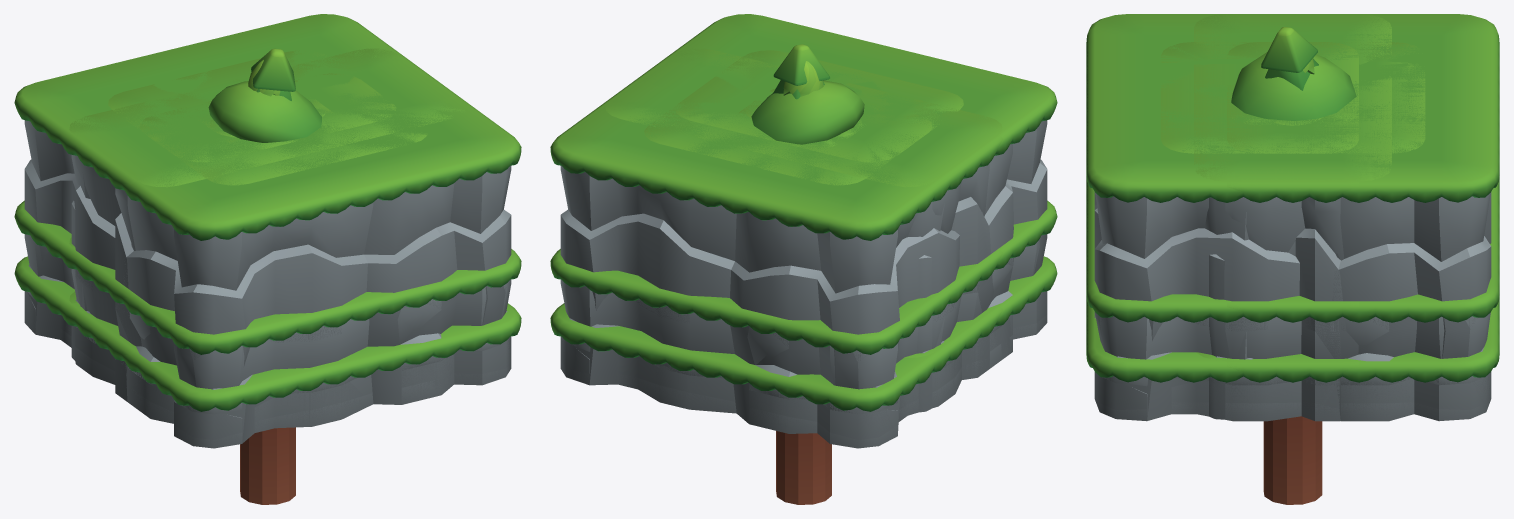
Rendered from kaykit_Color1.glb.
The picture shows the model from 3 angles, left to right: view 1: azimuth 30°, elevation 25°; view 2: azimuth 150°, elevation 25°; view 3: azimuth 270°, elevation 25°; orthographic projection. The views are drawn at different scales.
Parts seen in each view (by area): view 1: Hill_12x12x8_Color1-col, Hill_12x12x4_Color1-col, Hill_12x6x8_Color1-col, Hill_12x12x2_Color1-col, Hill_8x8x8_Color1-col, Tree_7_C_Color1-col, Wooden_Platform_Top-col, Hill_8x4x8_Color1-col, Tree_4_C_Color1-col, Hill_12x6x4_Color1-col, Hill_12x6x2_Color1-col; view 2: Hill_12x12x8_Color1-col, Hill_12x12x4_Color1-col, Hill_12x6x8_Color1-col, Hill_12x12x2_Color1-col, Hill_8x8x8_Color1-col, Hill_8x4x8_Color1-col, Tree_7_C_Color1-col, Wooden_Platform_Top-col, Hill_12x6x4_Color1-col, Hill_12x6x2_Color1-col, Tree_4_C_Color1-col, Tree_5_F_Color1-col; view 3: Hill_12x12x8_Color1-col, Hill_12x6x8_Color1-col, Hill_12x12x4_Color1-col, Hill_12x12x2_Color1-col, Hill_8x8x8_Color1-col, Hill_8x4x8_Color1-col, Tree_7_C_Color1-col, Wooden_Platform_Top-col, Hill_12x6x4_Color1-col, Hill_12x6x2_Color1-col, Tree_4_C_Color1-col.
Part boxes in pixels (left/top/right/bottom): Hill_12x12x8_Color1-col: left=14, top=14, right=521, bottom=447; Hill_12x12x4_Color1-col: left=14, top=200, right=521, bottom=447; Hill_12x6x8_Color1-col: left=69, top=48, right=464, bottom=401; Hill_12x12x2_Color1-col: left=14, top=256, right=521, bottom=448; Hill_8x8x8_Color1-col: left=108, top=50, right=427, bottom=185; Tree_7_C_Color1-col: left=208, top=81, right=321, bottom=142; Wooden_Platform_Top-col: left=240, top=427, right=295, bottom=504; Hill_8x4x8_Color1-col: left=139, top=73, right=396, bottom=162; Tree_4_C_Color1-col: left=251, top=48, right=295, bottom=100; Hill_12x6x4_Color1-col: left=69, top=237, right=135, bottom=391; Hill_12x6x2_Color1-col: left=69, top=291, right=138, bottom=401; Hill_12x12x8_Color1-col: left=550, top=14, right=1057, bottom=444; Hill_12x12x4_Color1-col: left=550, top=200, right=1057, bottom=448; Hill_12x6x8_Color1-col: left=605, top=48, right=1003, bottom=412; Hill_12x12x2_Color1-col: left=550, top=256, right=1057, bottom=448; Hill_8x8x8_Color1-col: left=644, top=50, right=963, bottom=185; Hill_8x4x8_Color1-col: left=676, top=82, right=932, bottom=162; Tree_7_C_Color1-col: left=751, top=80, right=864, bottom=144; Wooden_Platform_Top-col: left=776, top=431, right=831, bottom=504; Hill_12x6x4_Color1-col: left=916, top=248, right=1003, bottom=409; Hill_12x6x2_Color1-col: left=904, top=305, right=1003, bottom=410; Tree_4_C_Color1-col: left=772, top=44, right=829, bottom=99; Tree_5_F_Color1-col: left=783, top=61, right=823, bottom=96; Hill_12x12x8_Color1-col: left=1086, top=14, right=1499, bottom=421; Hill_12x6x8_Color1-col: left=1194, top=14, right=1391, bottom=421; Hill_12x12x4_Color1-col: left=1086, top=176, right=1499, bottom=421; Hill_12x12x2_Color1-col: left=1086, top=296, right=1499, bottom=421; Hill_8x8x8_Color1-col: left=1160, top=42, right=1425, bottom=153; Hill_8x4x8_Color1-col: left=1227, top=42, right=1358, bottom=153; Tree_7_C_Color1-col: left=1231, top=52, right=1356, bottom=120; Wooden_Platform_Top-col: left=1263, top=416, right=1322, bottom=504; Hill_12x6x4_Color1-col: left=1209, top=296, right=1358, bottom=419; Hill_12x6x2_Color1-col: left=1196, top=352, right=1362, bottom=421; Tree_4_C_Color1-col: left=1261, top=27, right=1318, bottom=90.
Size of what is drawn, in the model's own units: 12.5 by 15.6 by 12.5.
199 materials, 199 textured.
